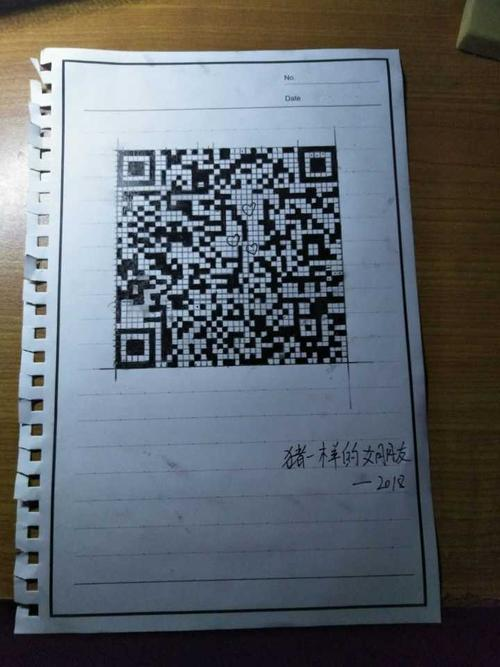QRCode: (102, 143, 353, 373)
